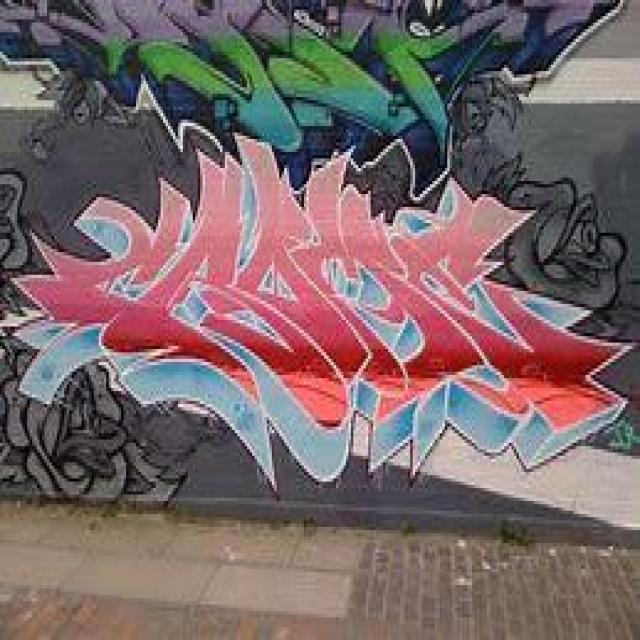nonspitting: (8, 132, 636, 490), (0, 0, 625, 197), (0, 168, 187, 510), (480, 146, 630, 338)
